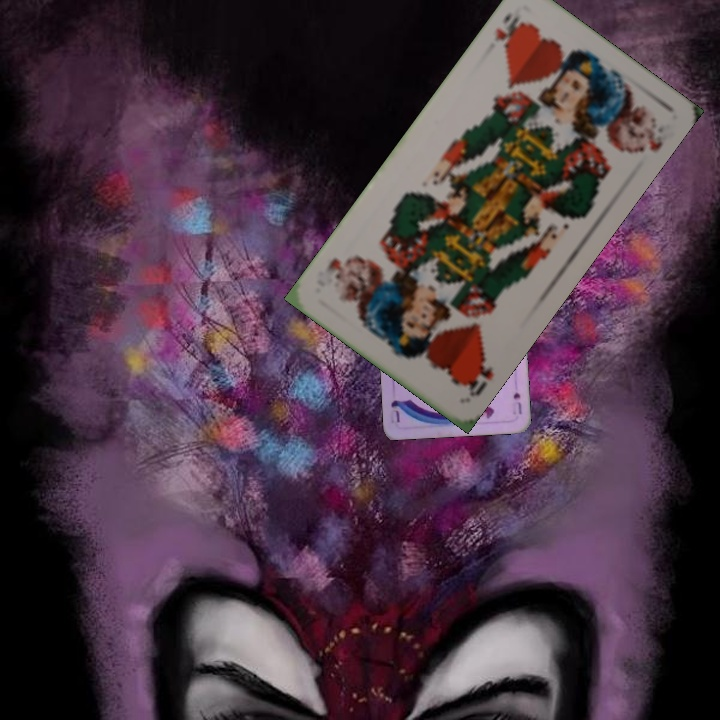HO: (490, 7, 527, 55), (460, 353, 497, 400)
SU: (507, 388, 524, 416)
